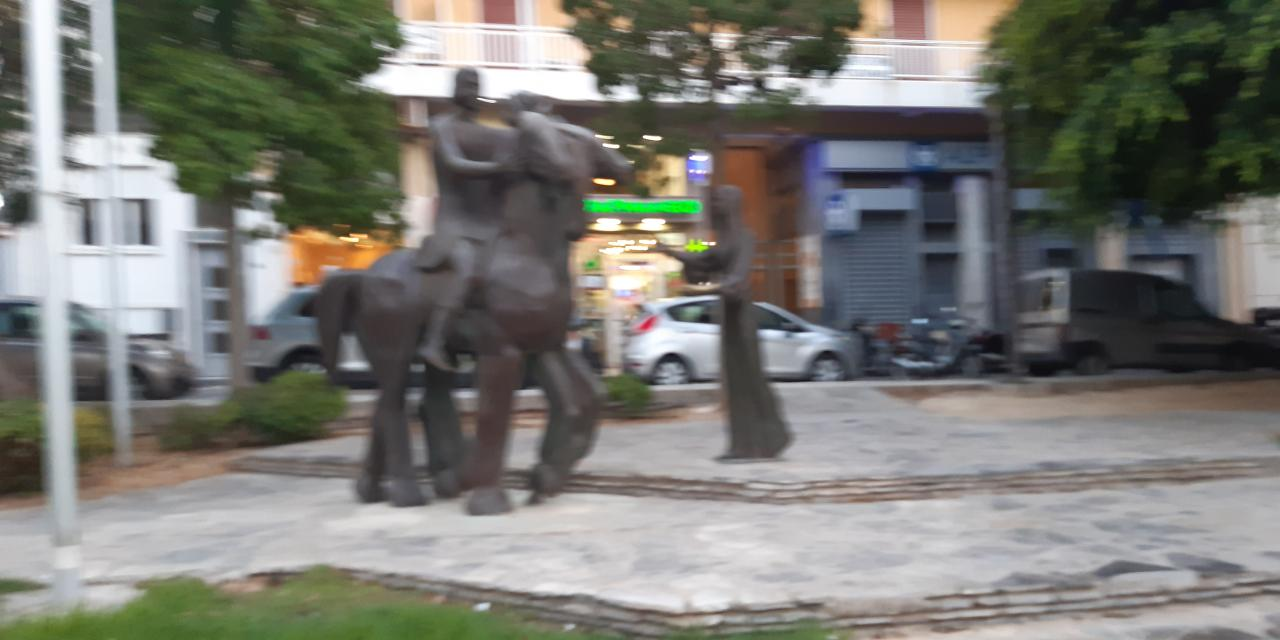Aretousa: (317, 70, 794, 517)
